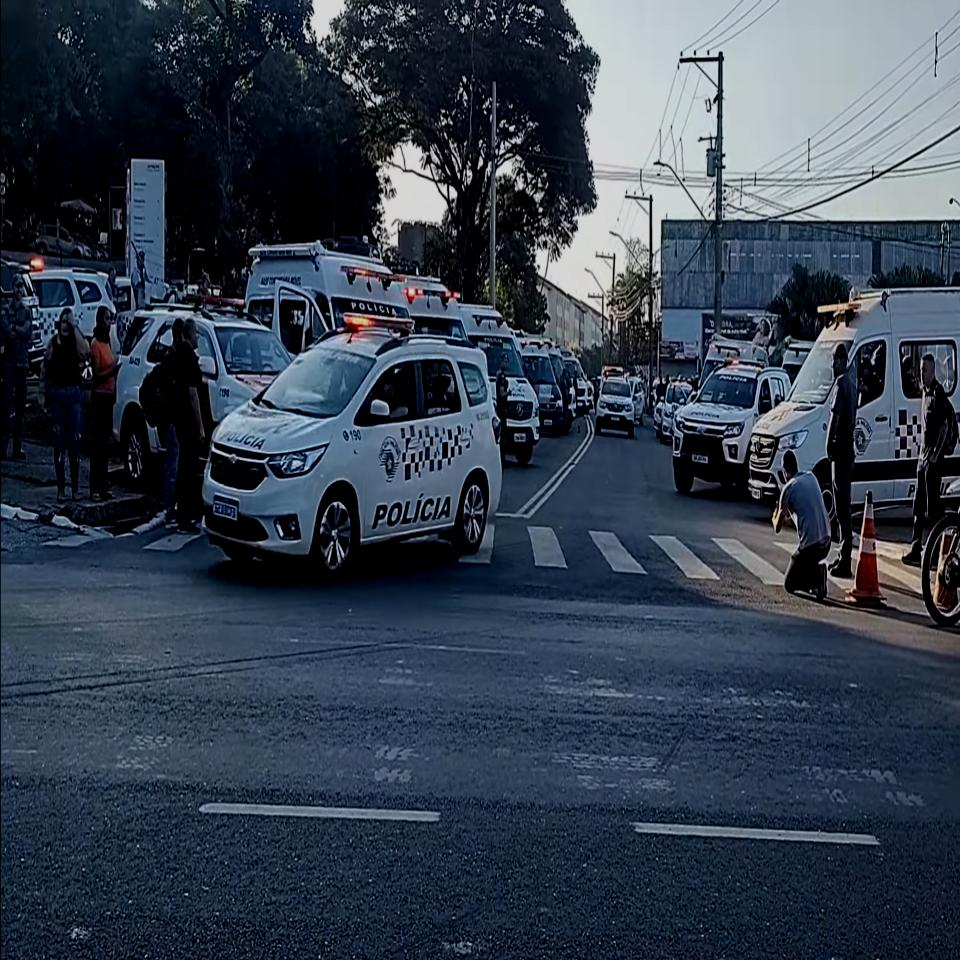viatura: (196, 312, 505, 580), (670, 354, 792, 492), (595, 363, 635, 438)
